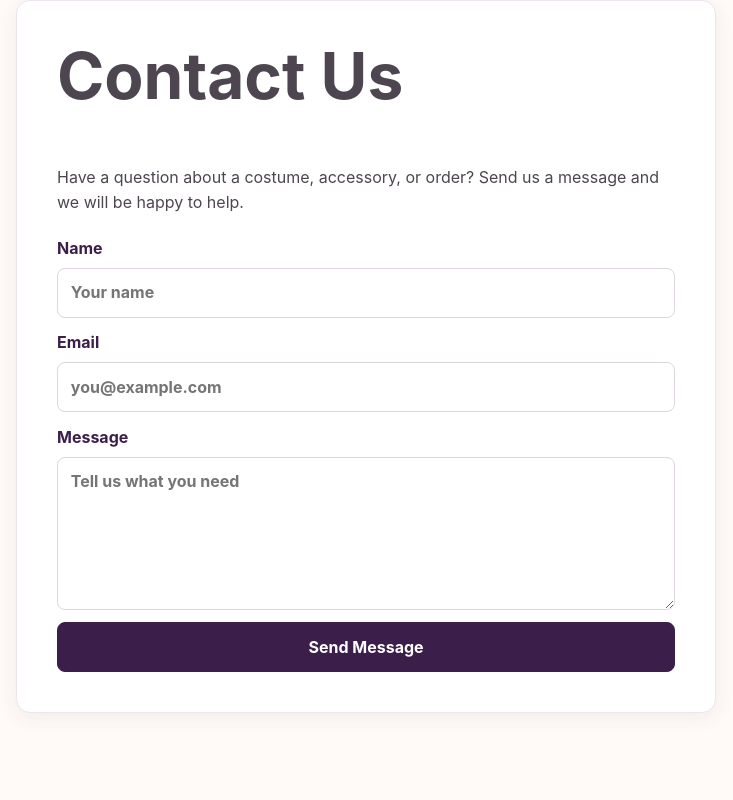
Test: Contact › validates input and confirms a valid submission
The width and height of the screenshot is (733, 800).
Click the button "Send Message" at (366, 647), box [57, 622, 675, 672]
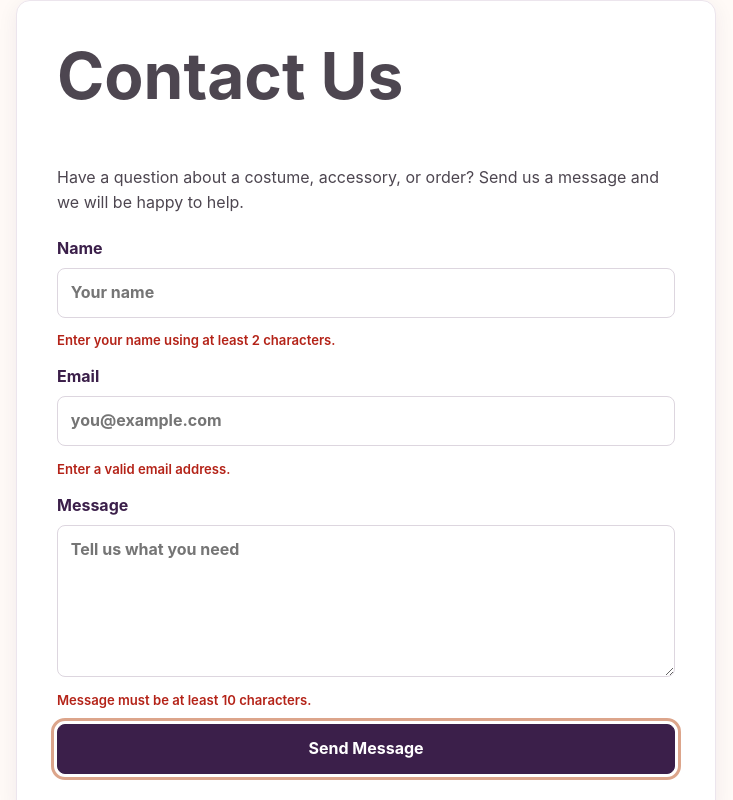
Now the text "Enter your name using at least 2 characters." is shown, box [57, 332, 336, 348]
Type "Kala" into the field labelled "Name" at (366, 293), box [57, 268, 675, 318]
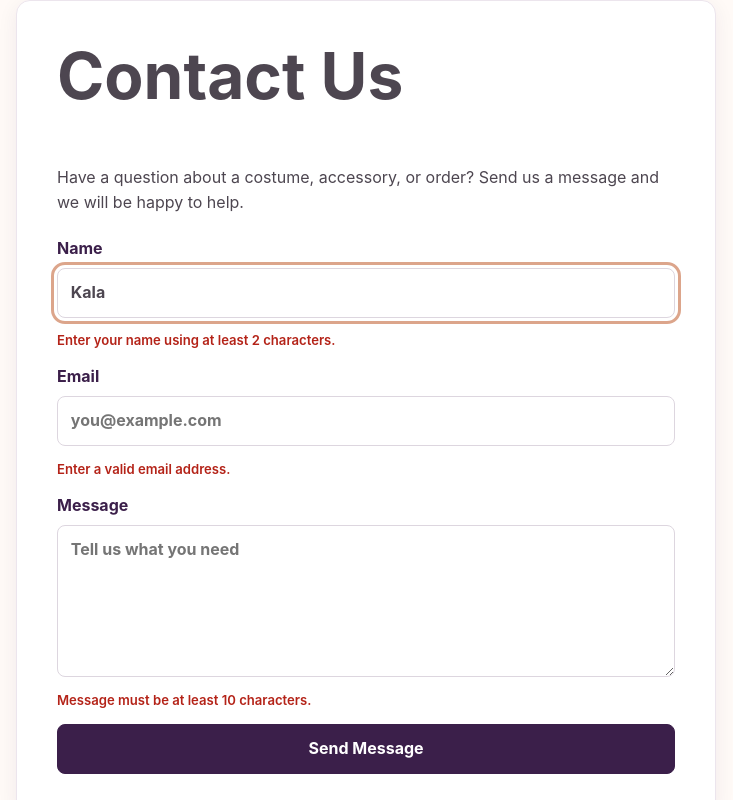
Type "kala@example.com" into the field labelled "Email" at (366, 421), box [57, 396, 675, 446]
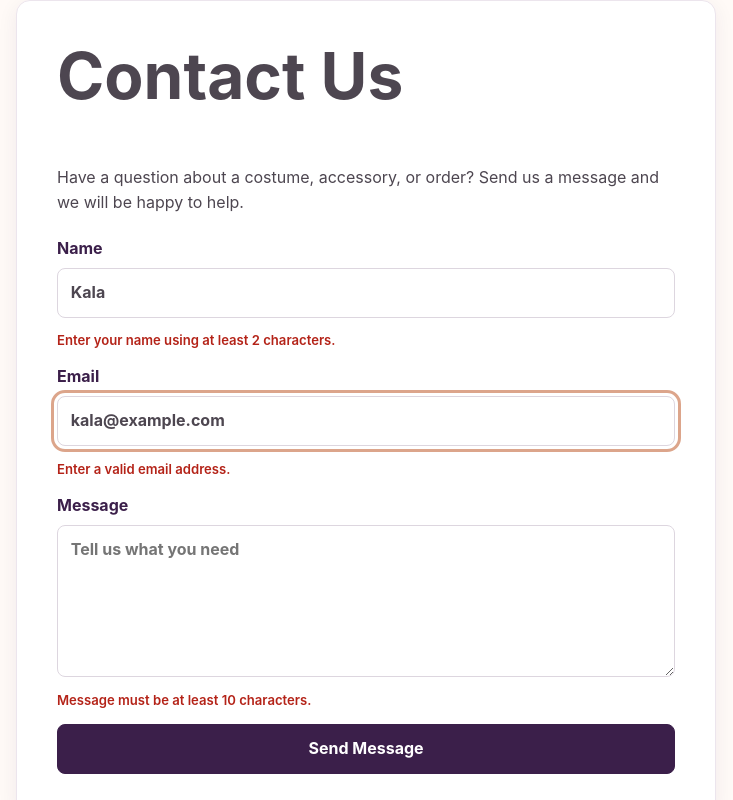
Type "I would like help selecting a costume." into the text box labelled "Message" at (366, 601), box [57, 525, 675, 677]
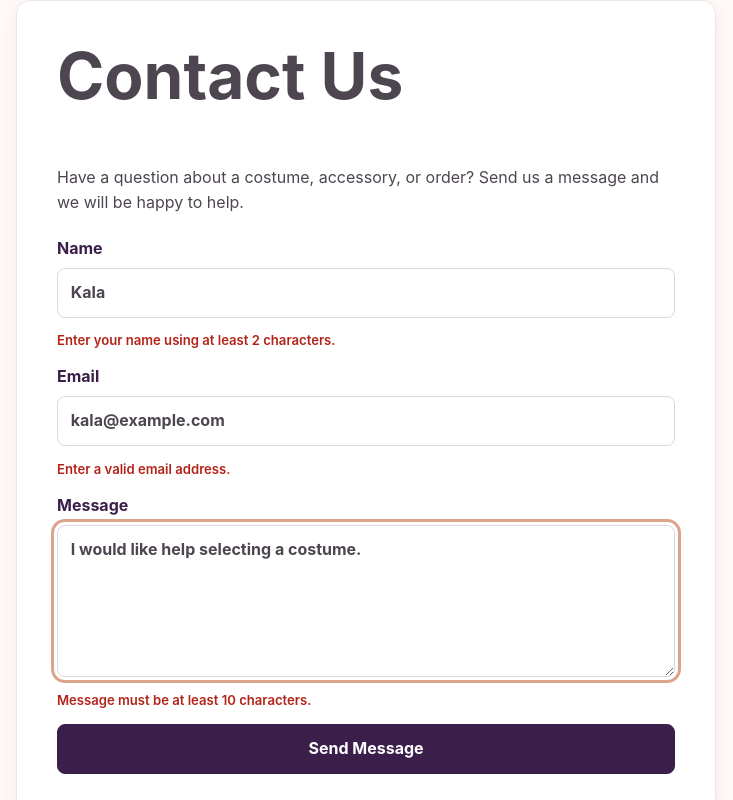
Click the button "Send Message" at (366, 749), box [57, 724, 675, 774]
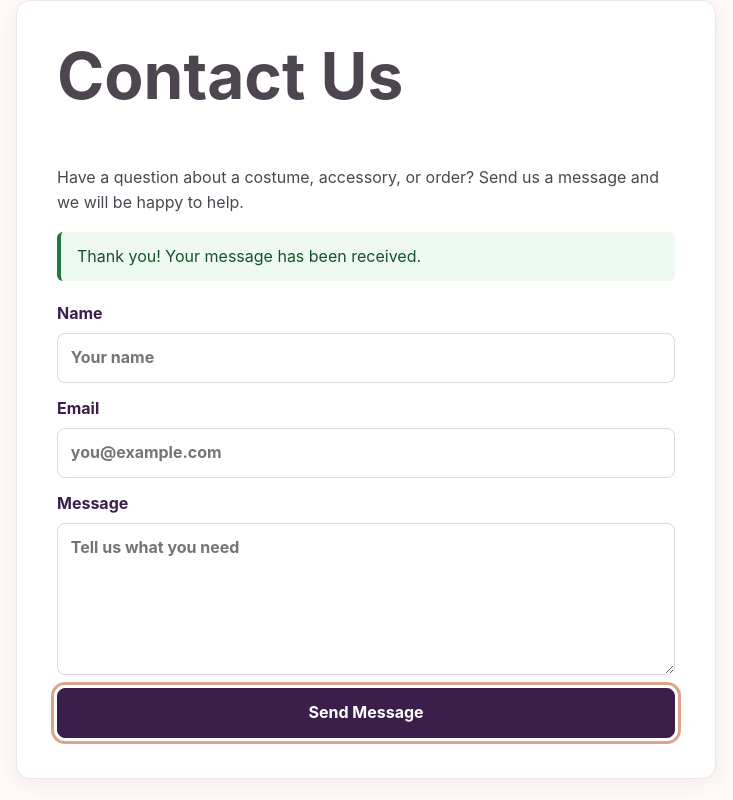
Now the message shows "message has been received", box [77, 246, 421, 266]
